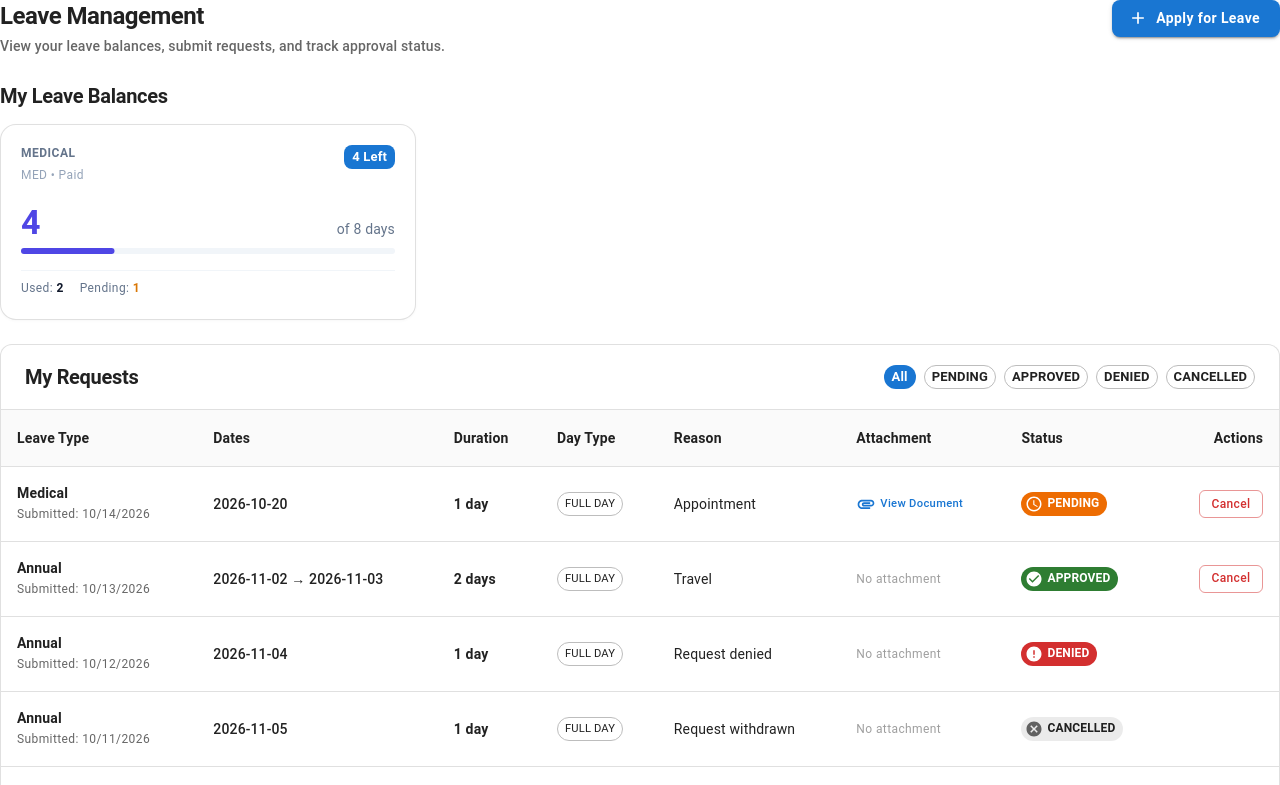
Scenario: opens a remote image attachment in its document preview
Expected: the text "Appointment" is shown, x1=674 y1=496 x2=756 y2=512
Click the button "View Document": click(922, 504) x1=880 y1=494 x2=963 y2=514
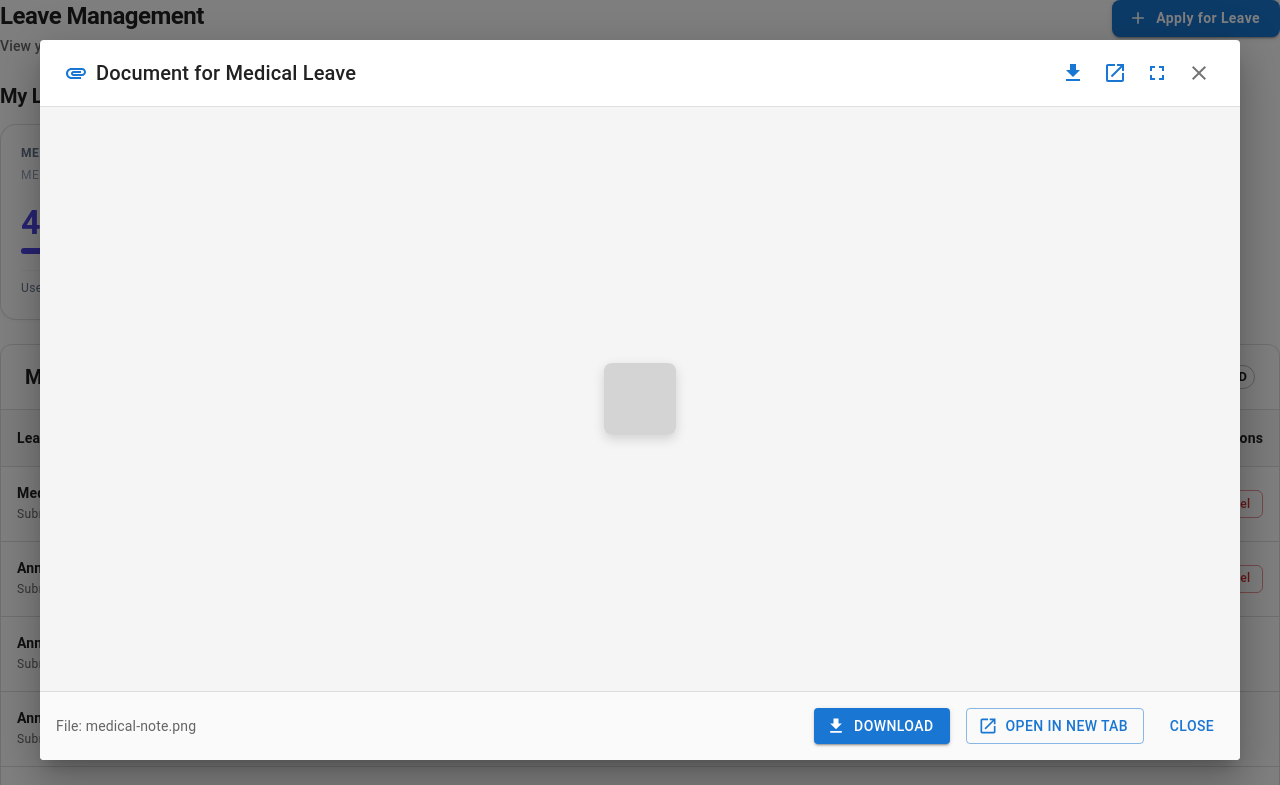
Expected: the text "Document for Medical Leave" is shown, x1=96 y1=57 x2=356 y2=89
